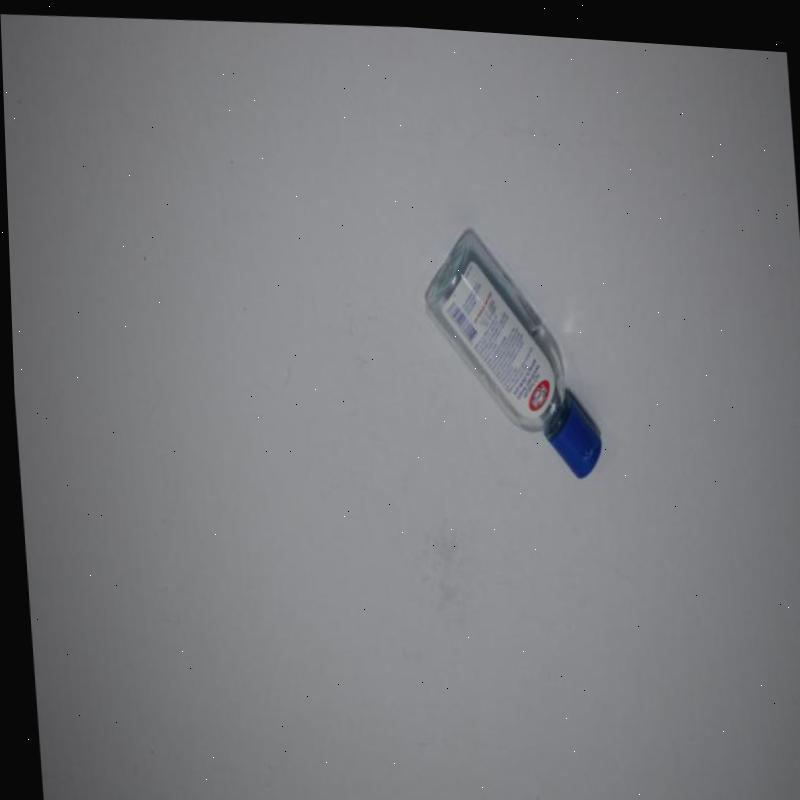botella: (416, 220, 600, 477)
